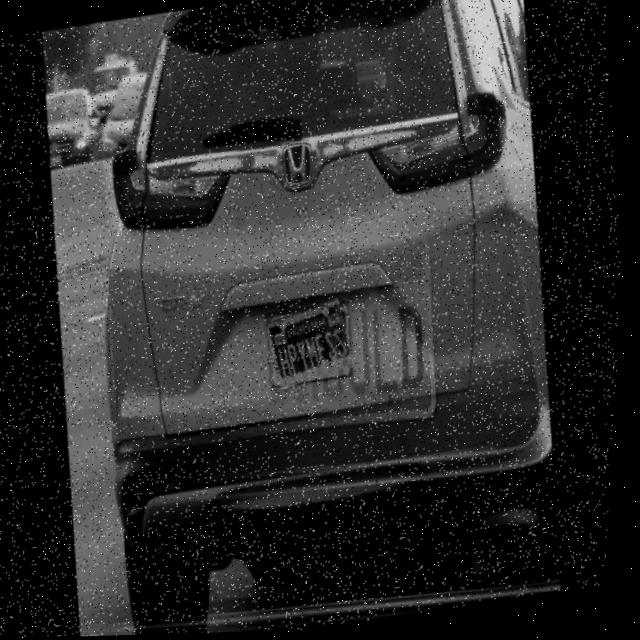LicensePlate: (266, 302, 361, 390)
